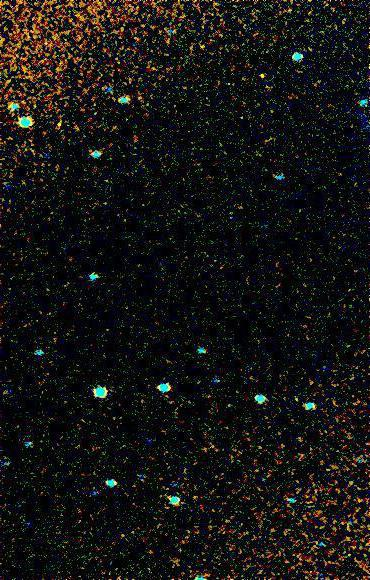star: (246, 62, 276, 92)
